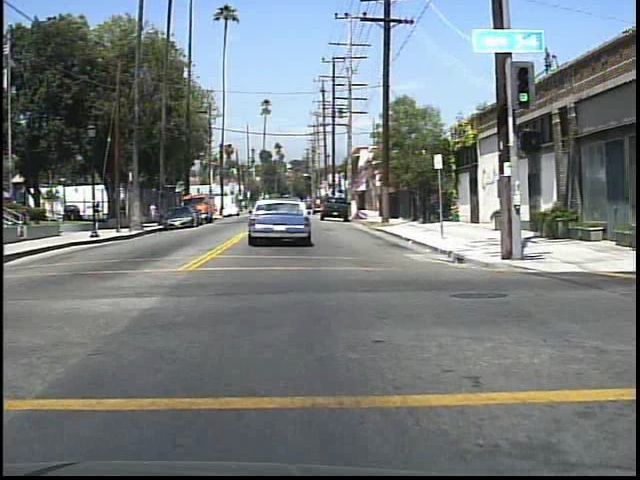person: (117, 194, 130, 219), (148, 197, 160, 220), (91, 198, 104, 219)
